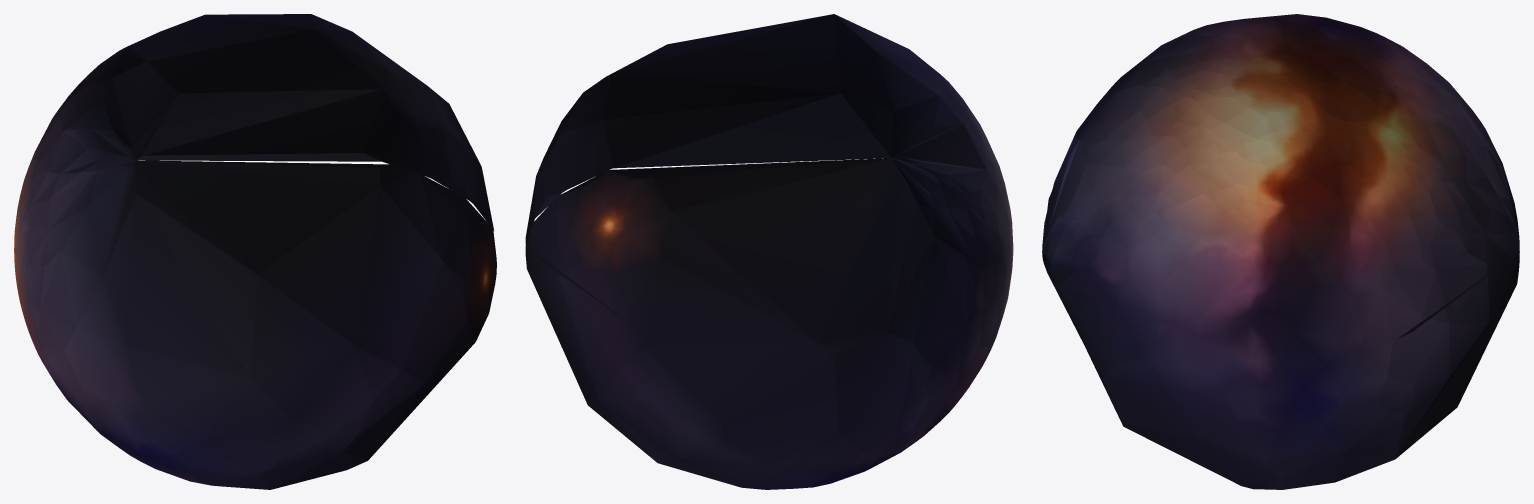
File: background_1.glb
3 views of the same model, side by side, from view 1: azimuth 30°, elevation 25°; view 2: azimuth 150°, elevation 25°; view 3: azimuth 270°, elevation 25° (orthographic). The views are drawn at different scales.
Visible parts, largest first — view 1: sphere; view 2: sphere; view 3: sphere.
Part boxes in pixels (left/top/right/bottom): sphere: left=14, top=14, right=496, bottom=489; sphere: left=525, top=14, right=1013, bottom=489; sphere: left=1042, top=14, right=1519, bottom=489.
Size of the model in its own units: 20 by 19.84 by 20.
